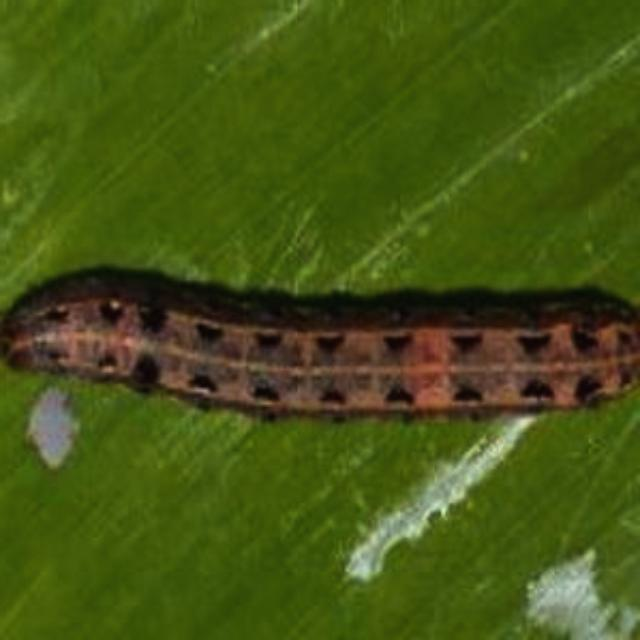Tobacco cutworm: (0, 212, 640, 472)
